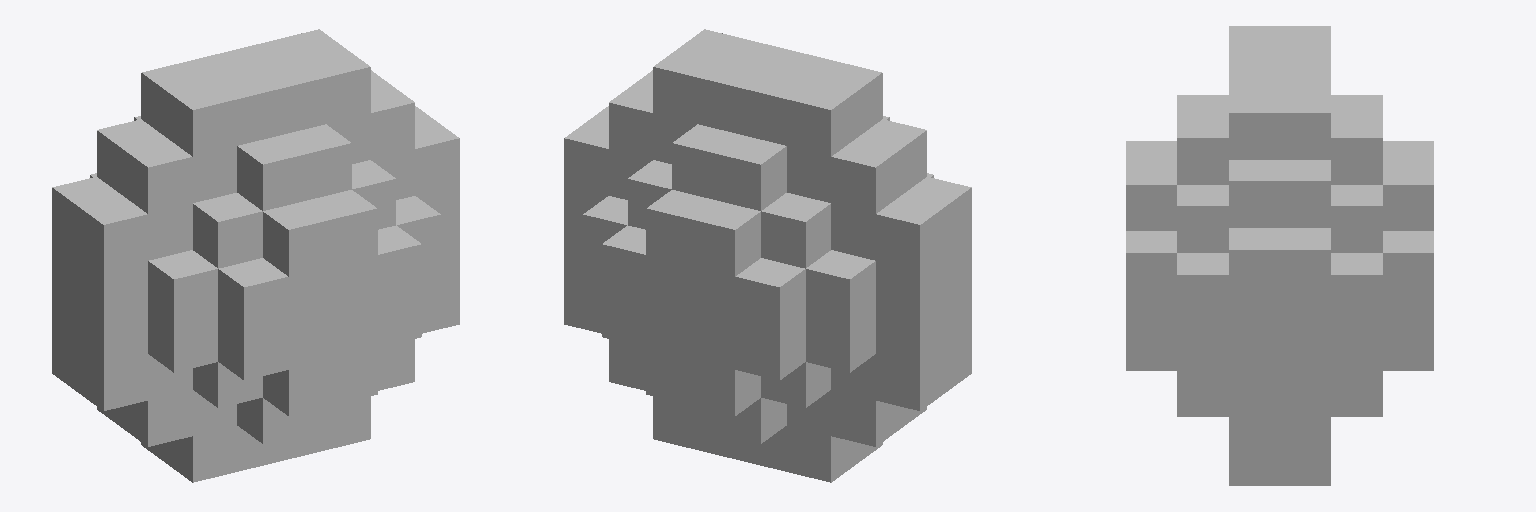
The model's file is COIN.obj.
3 renders of one model, left to right at view 1: azimuth 30°, elevation 25°; view 2: azimuth 150°, elevation 25°; view 3: azimuth 270°, elevation 25°, orthographic.
Visible parts, largest first — view 1: object 1; view 2: object 1; view 3: object 1.
Part boxes in pixels (x1,y1,x2,y2): object 1: (52, 29, 459, 482); object 1: (564, 29, 971, 482); object 1: (1126, 26, 1433, 485).
Bounding box in the file's own units: 0.8 × 0.8 × 0.6.